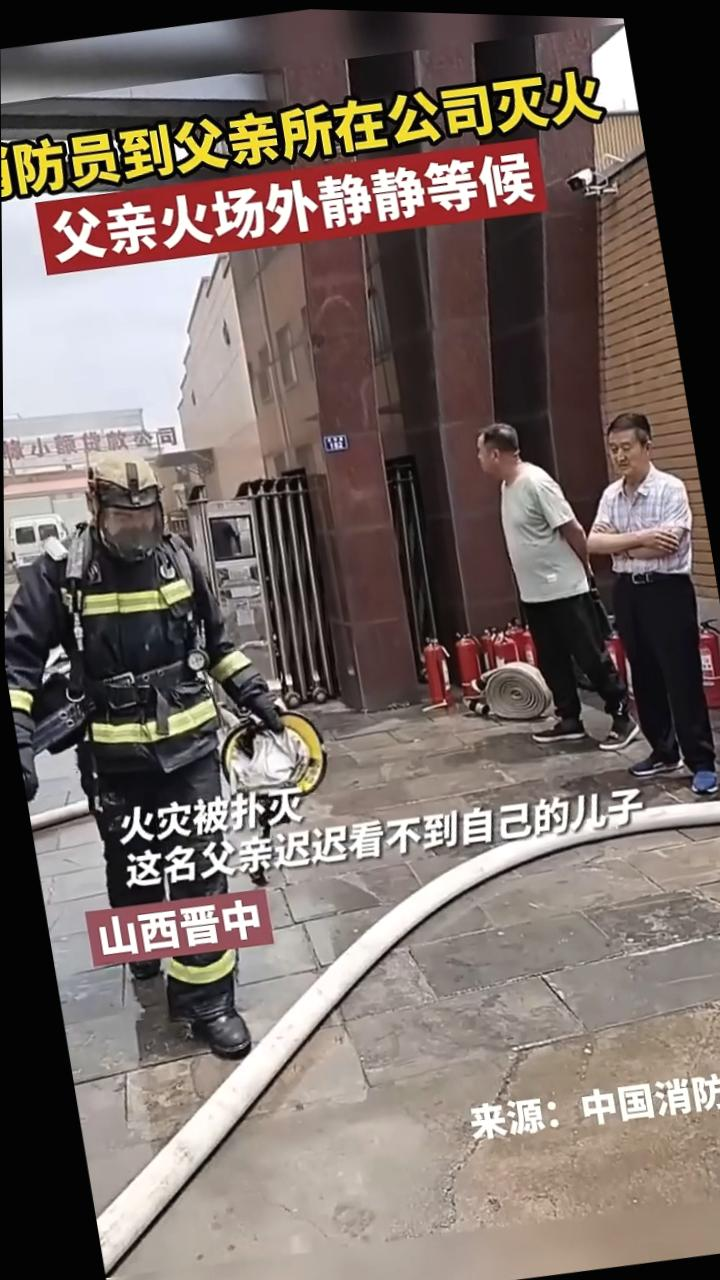FireExtinguisher: (481, 611, 536, 687), (687, 595, 720, 721), (445, 623, 488, 712), (412, 628, 456, 710)
